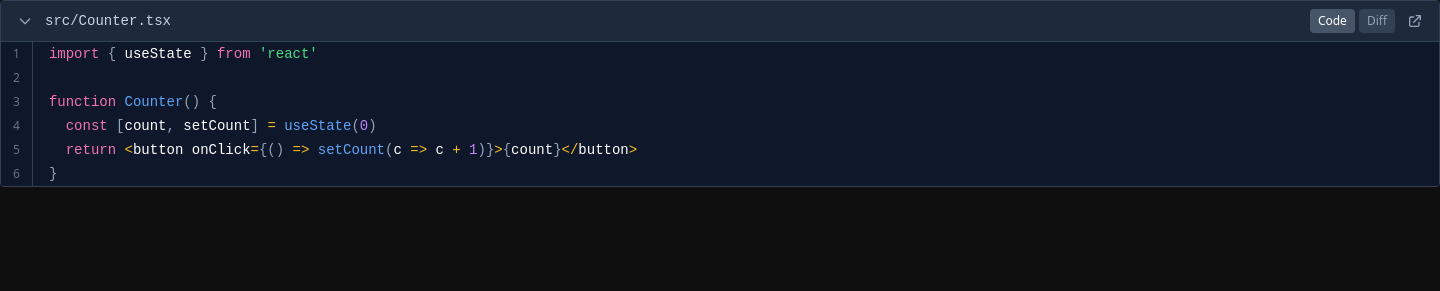
it: CodePreview › Content Display › should render DiffView when in diff mode
Click the button with test id "view-mode-diff".
click(1377, 21)  # box [1359,9,1395,33]
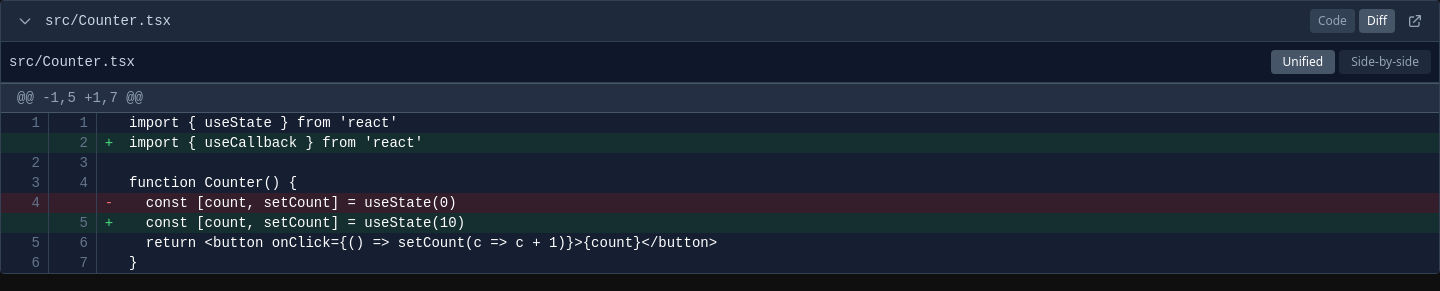
Now the 1st text with test id "line-number" is shown, box [1,113,49,133]
